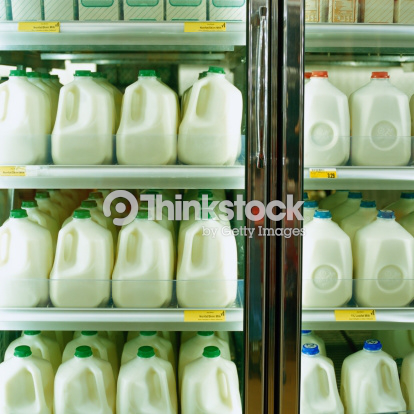milk: (1, 188, 238, 309), (1, 63, 242, 169), (1, 330, 244, 414), (301, 191, 413, 307), (304, 70, 413, 168), (302, 328, 413, 414)
